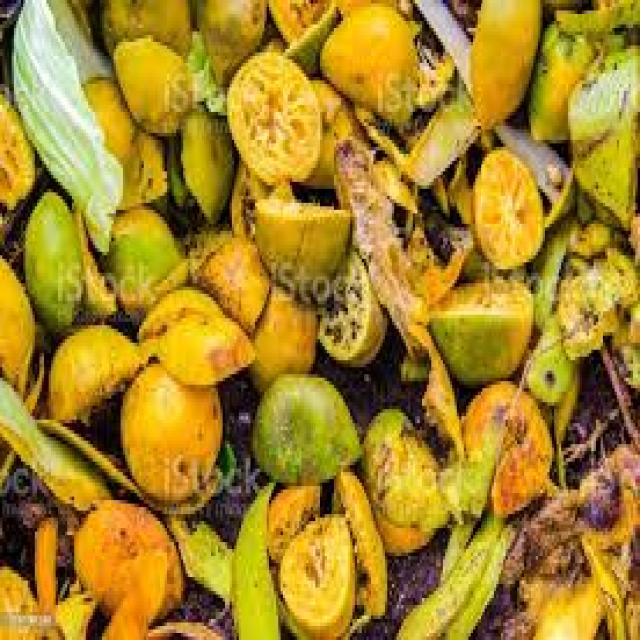Organik: (0, 3, 640, 640), (446, 3, 640, 266), (196, 25, 372, 308), (40, 295, 266, 506), (411, 113, 577, 386), (3, 6, 146, 276), (0, 482, 204, 640), (454, 372, 588, 560), (240, 325, 374, 500)
